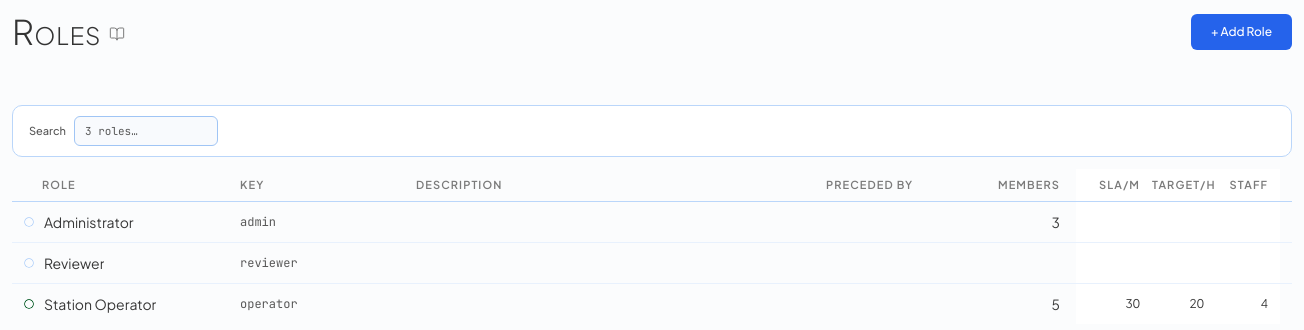
Test case: RolesPage › shows a clear-search directive when search finds nothing
Type "zzznomatch" into the field with placeholder "3 roles…" at (146, 131), box [74, 116, 218, 146]
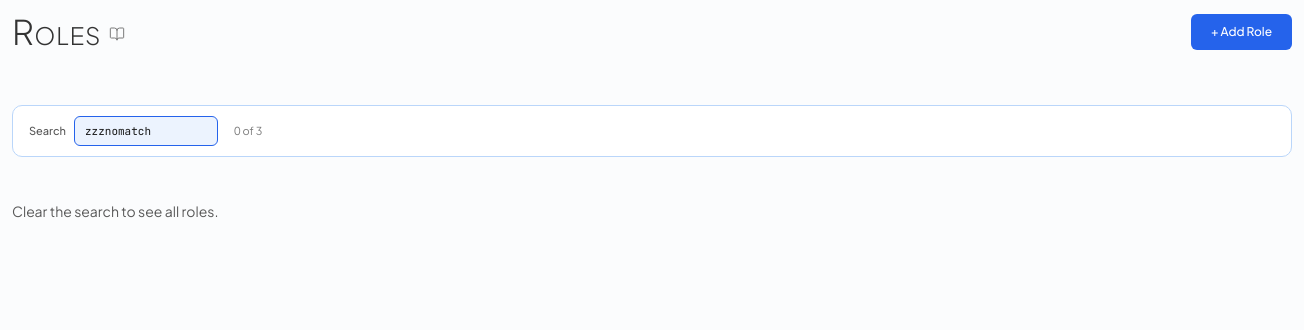
Result: the text "Clear the search to see all roles." is shown at [12, 202, 218, 220]
